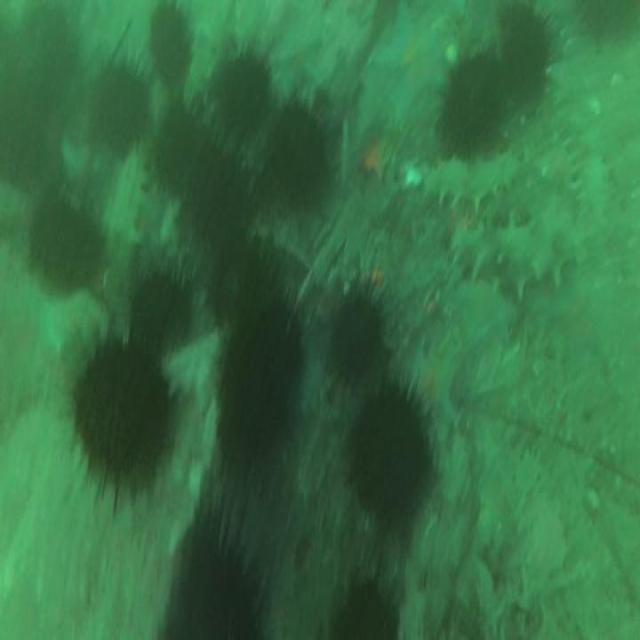echinus: (220, 307, 304, 477), (71, 351, 165, 493), (353, 387, 428, 525), (171, 537, 253, 640), (186, 142, 258, 244), (444, 54, 508, 161), (31, 210, 102, 294), (224, 240, 292, 321), (87, 66, 146, 156), (270, 108, 327, 198), (500, 0, 549, 104), (330, 292, 382, 386), (215, 52, 267, 136), (148, 2, 196, 88), (332, 578, 398, 640), (155, 108, 201, 194), (134, 272, 188, 340)
holothurian: (452, 221, 554, 300), (421, 156, 521, 208)
